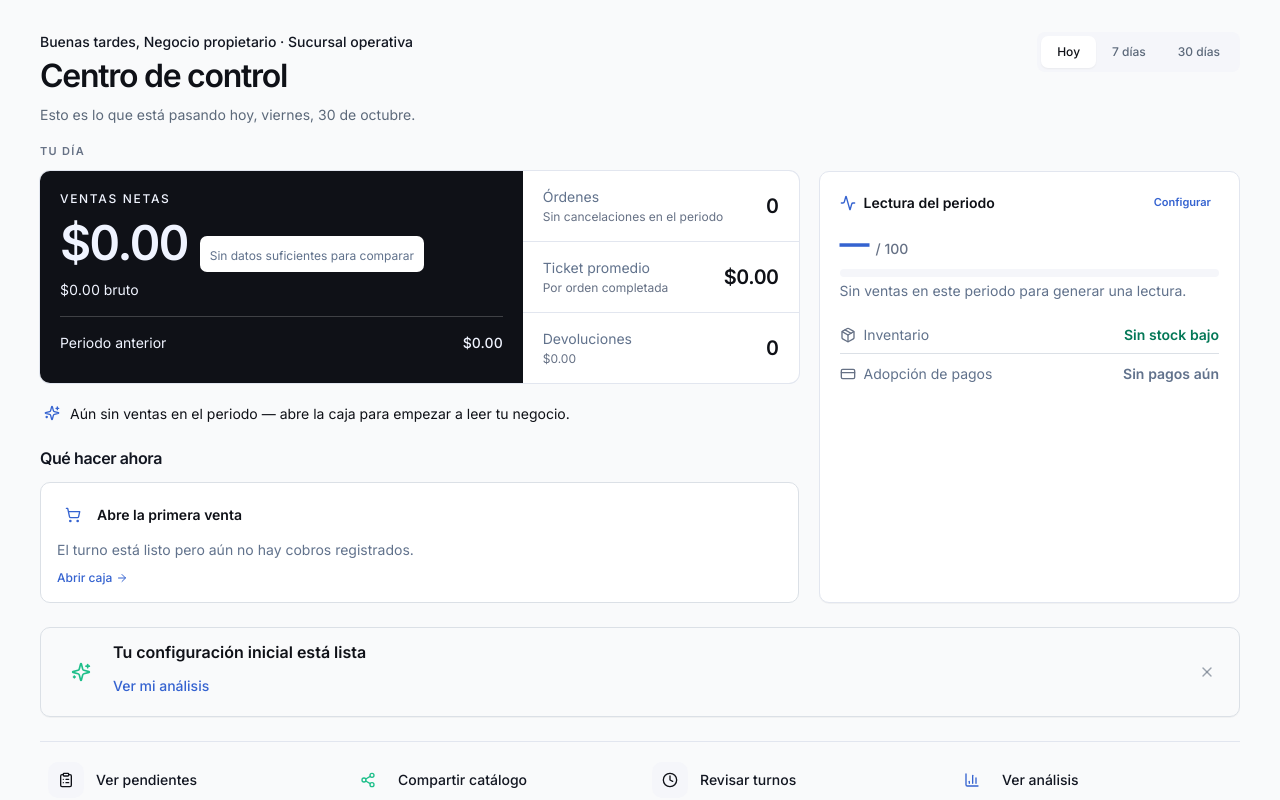
Scenario: owner dashboard journey › keeps completion celebration and dismissal instead of showing a fabricated next step
Expected: the text "Tu configuración inicial está lista" is shown, [113,642,366,662]
What coordinates should you click on to do the following:
click the button named "Entendido"
I would click on:
 (1207, 672)
Its box is [1195,660,1219,684].
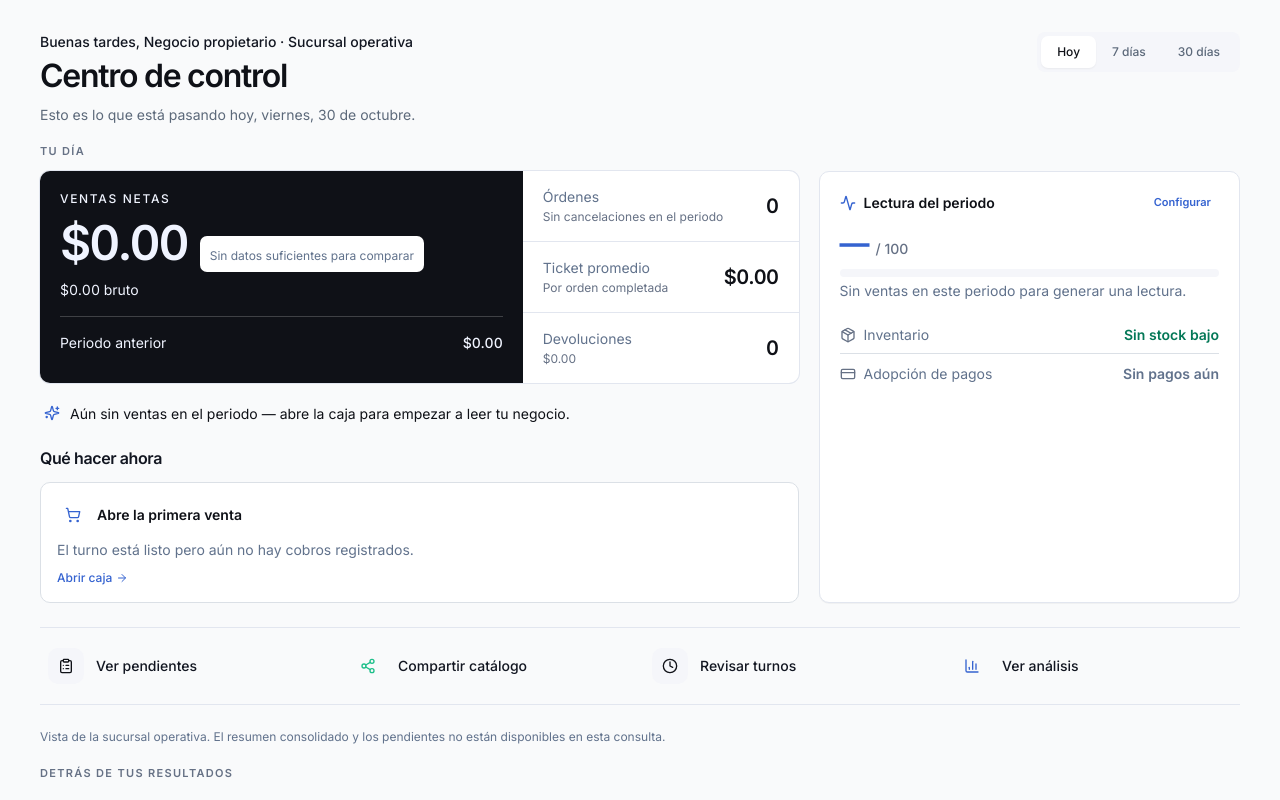
Now the text "Tu configuración inicial está lista" is gone
